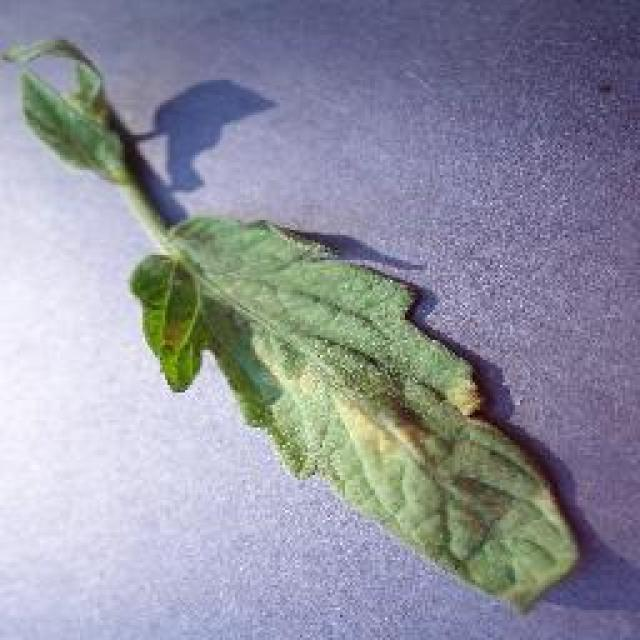Tomato___Leaf_Mold: (5, 40, 575, 605), (8, 40, 575, 605)
